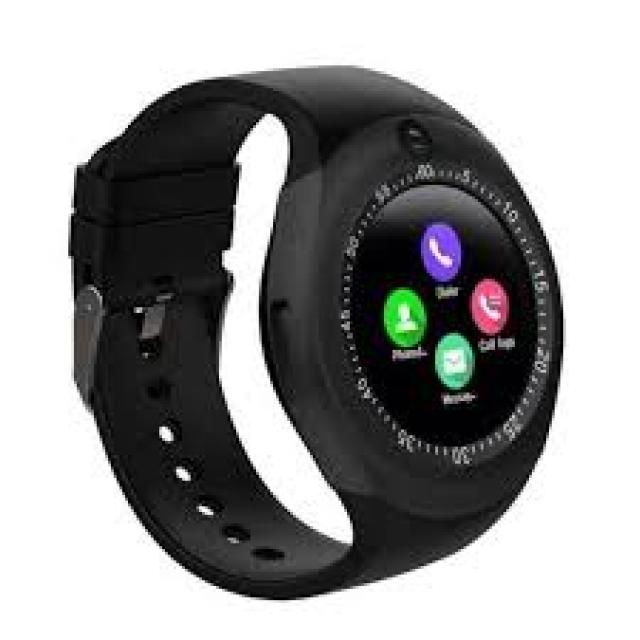objects: (65, 65, 564, 599)
